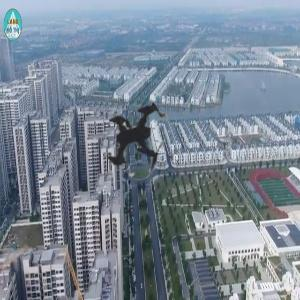drone: (38, 36, 244, 242)
